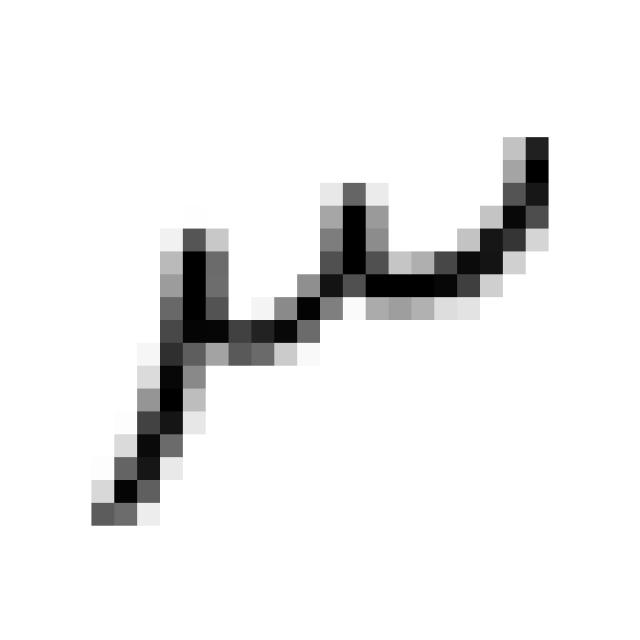3 -three-: (73, 112, 571, 550)
